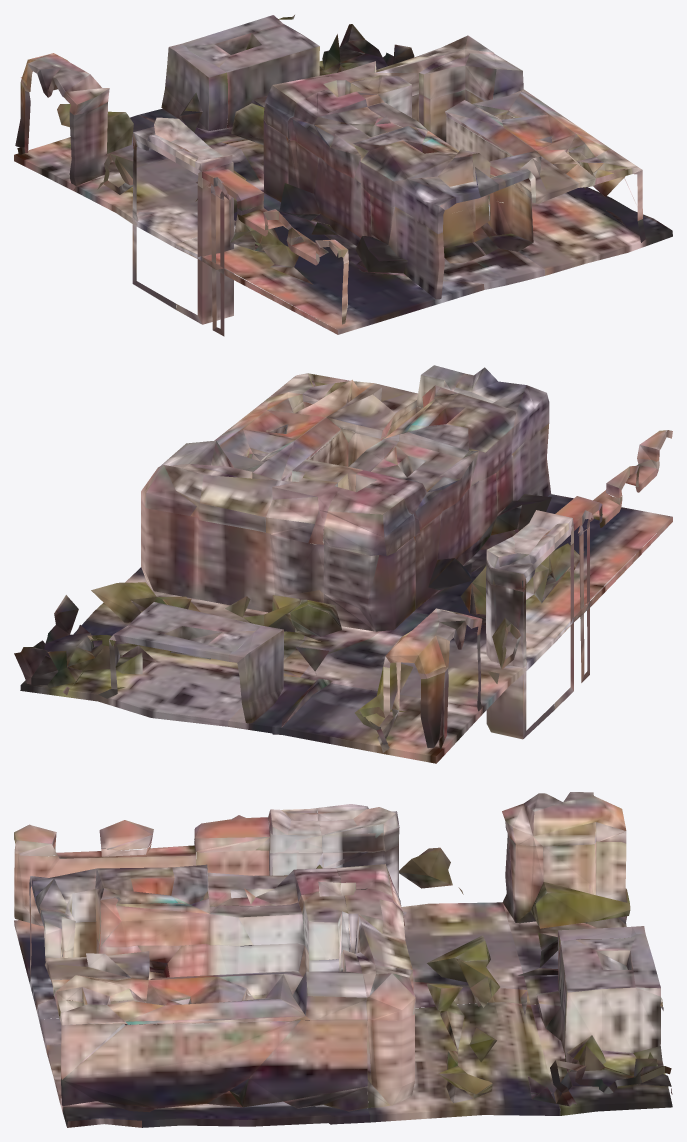
3 renders of one model, top to bottom at view 1: azimuth 30°, elevation 25°; view 2: azimuth 150°, elevation 25°; view 3: azimuth 270°, elevation 25°, orthographic. The views are drawn at different scales.
Visible parts, largest first — view 1: Mesh_0; view 2: Mesh_0; view 3: Mesh_0.
Boxes of the visible parts, <box> form: Mesh_0: <box>14,15,672,336</box>; Mesh_0: <box>14,365,672,763</box>; Mesh_0: <box>14,792,672,1127</box>.
Bounding box in the file's own units: 133 × 57.04 × 165.
Materials: 1 (1 with a texture image).
